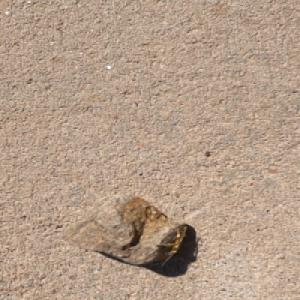Rock: (58, 192, 188, 266)
